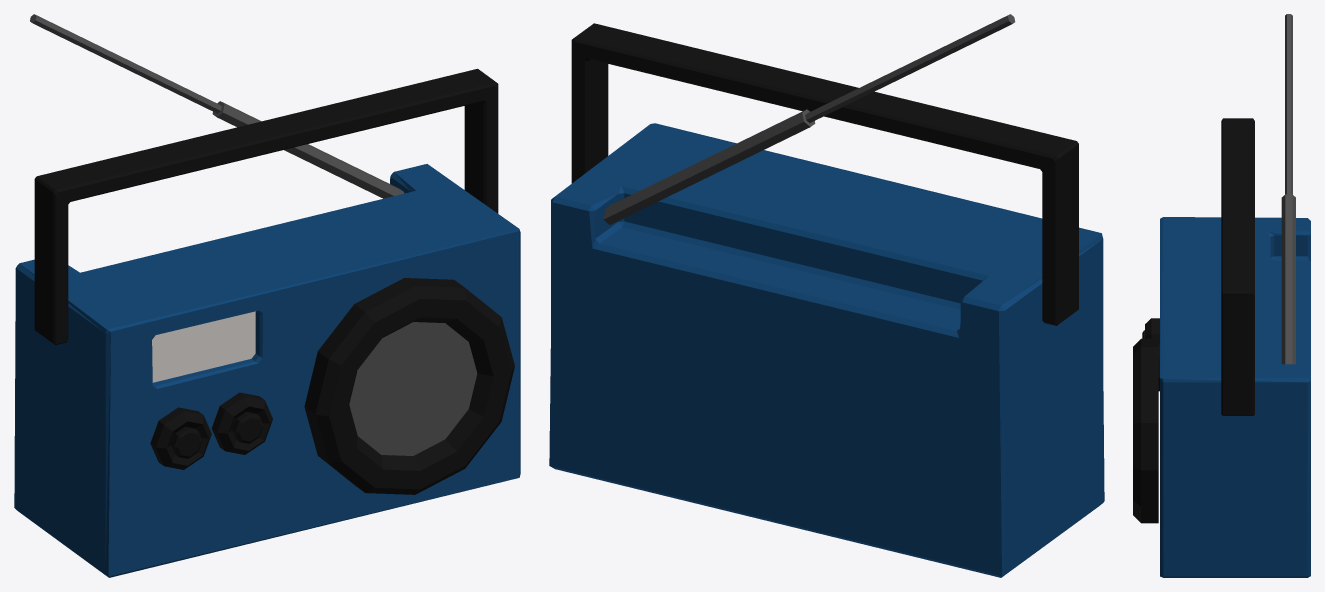
Rendered from Radio.FBX.
The picture shows the model from 3 angles, left to right: view 1: azimuth 30°, elevation 25°; view 2: azimuth 150°, elevation 25°; view 3: azimuth 270°, elevation 25°; orthographic projection. The views are drawn at different scales.
Visible parts, largest first — view 1: Radio; view 2: Radio; view 3: Radio.
Part boxes in pixels (x1,y1,x2,y2): Radio: (14,14,520,577); Radio: (549,14,1104,577); Radio: (1133,14,1310,577).
Bounding box in the file's own units: 0.25 × 0.1077 × 0.271.
